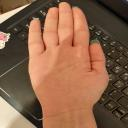OpenPalm: (28, 1, 110, 112)
